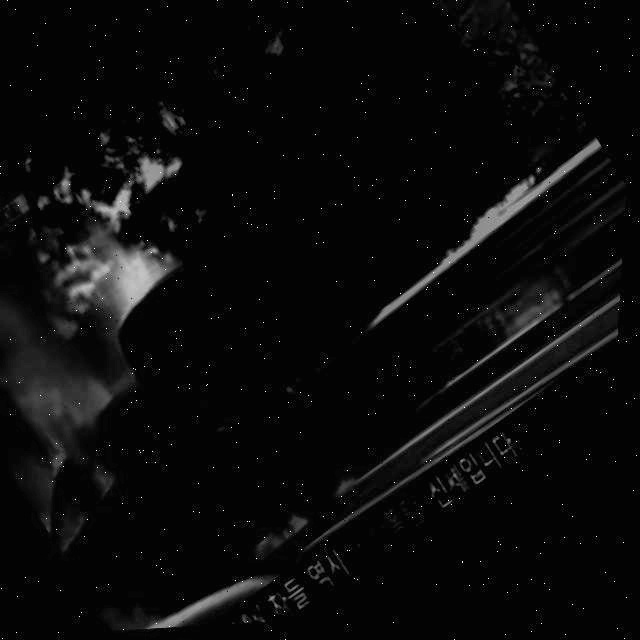Fire: (0, 317, 154, 540), (102, 568, 186, 634)
Smoke: (0, 218, 76, 375)
